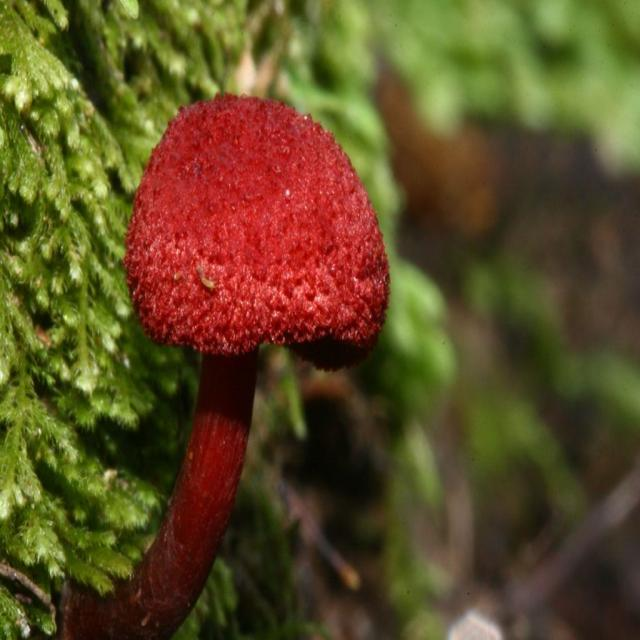Mushroom: (80, 98, 384, 640)
